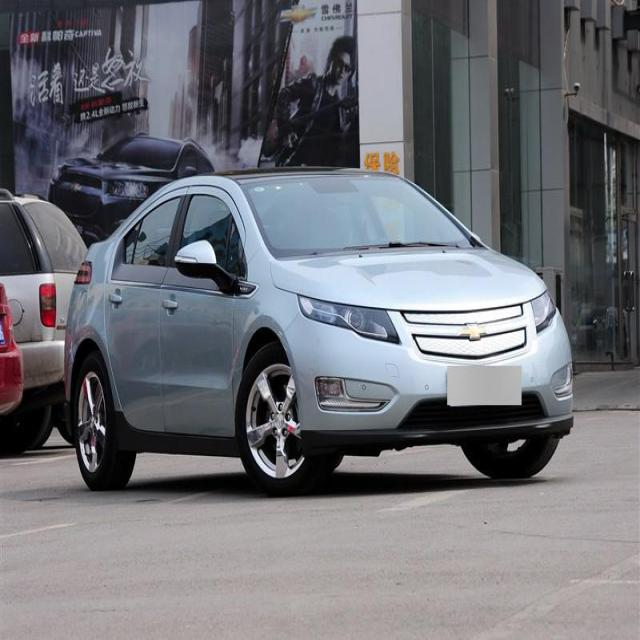back_right_side_light: (71, 252, 101, 298)
door: (106, 195, 187, 440)
front_bumper: (284, 305, 587, 438)
front_glass: (234, 164, 498, 263)
front_left_side_light: (520, 274, 572, 354)
front_right_side_door: (158, 176, 260, 449)
front_right_side_light: (291, 287, 403, 358)
front_right_side_mirror: (170, 234, 248, 302)
wheel: (235, 333, 338, 509), (69, 340, 137, 492), (454, 413, 562, 482)
